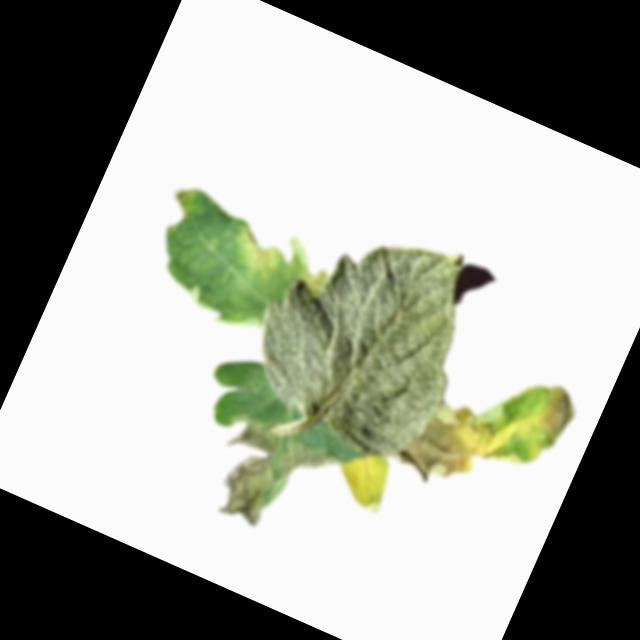Late_blight: (204, 413, 336, 545), (394, 389, 504, 502), (328, 443, 402, 516), (222, 218, 291, 285), (527, 379, 587, 449), (275, 235, 338, 298), (168, 181, 195, 209)
healthy: (229, 189, 499, 471)
